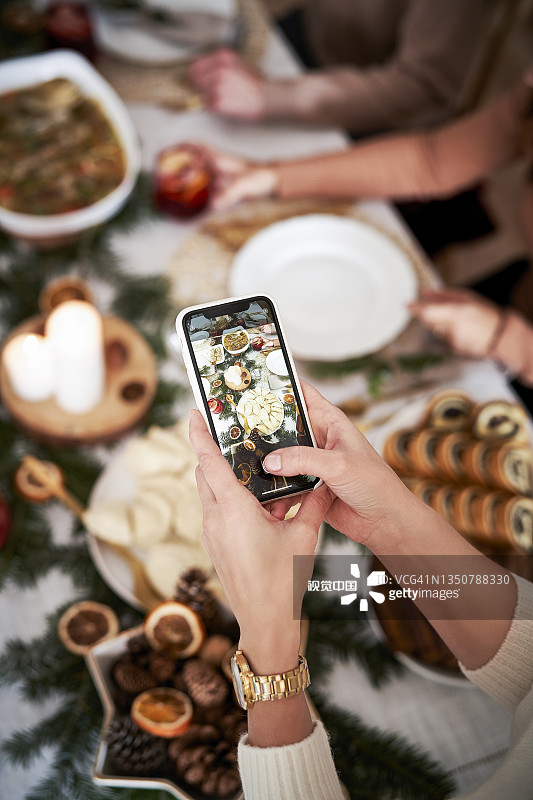taking photos: (148, 297, 476, 636)
